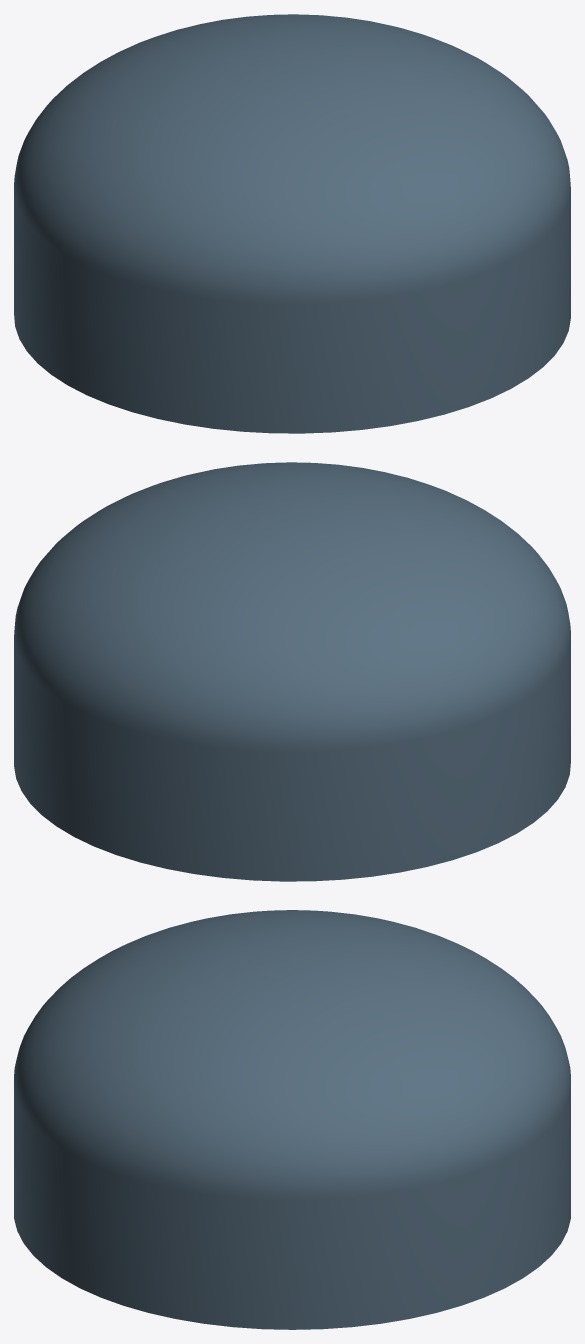
Rendered from zaglushka-89x3_5-H45.glb.
3 renders of one model, top to bottom at view 1: azimuth 30°, elevation 25°; view 2: azimuth 150°, elevation 25°; view 3: azimuth 270°, elevation 25°, orthographic.
Visible parts, largest first — view 1: Open CASCADE STEP translator 7.9 7; view 2: Open CASCADE STEP translator 7.9 7; view 3: Open CASCADE STEP translator 7.9 7.
Part boxes in pixels (x1,y1,x2,y2): Open CASCADE STEP translator 7.9 7: (14, 14, 570, 433); Open CASCADE STEP translator 7.9 7: (14, 462, 570, 881); Open CASCADE STEP translator 7.9 7: (14, 910, 570, 1329).
Bounding box in the file's own units: 89 × 45 × 88.87.
